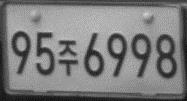5: (35, 31, 55, 76)
6: (83, 33, 105, 77)
8: (155, 33, 177, 79)
9: (130, 32, 152, 78), (10, 30, 31, 75), (107, 32, 127, 78)
주: (57, 39, 78, 77)
